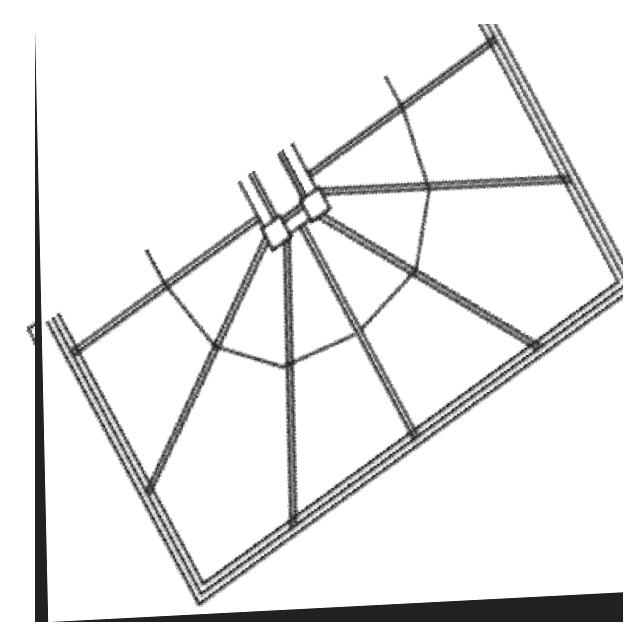stair: (35, 24, 623, 622)
